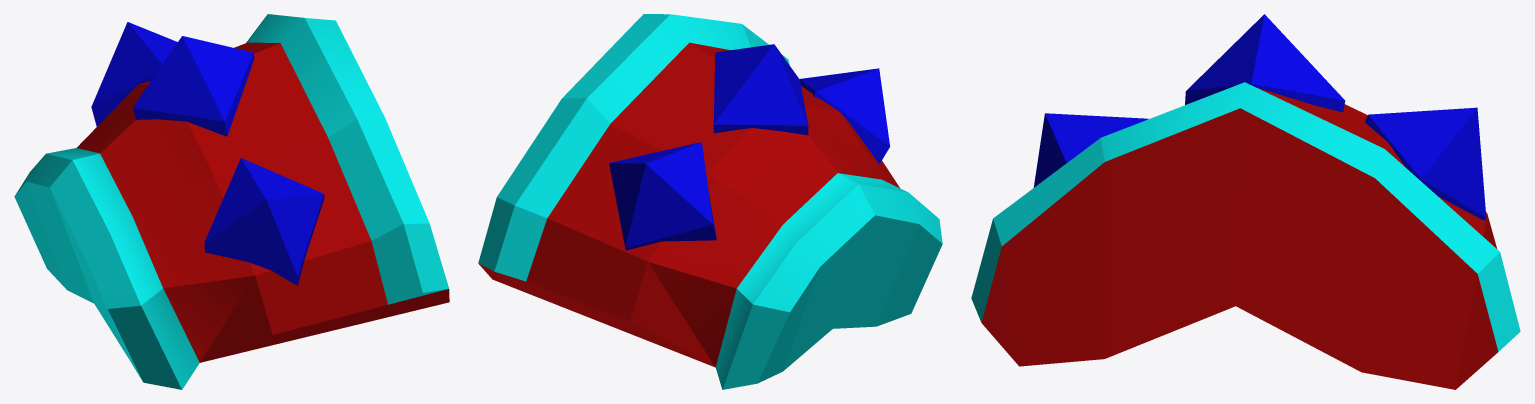
The model's file is Chr_ShoulderAttachRight_Static_05.fbx.
The picture shows the model from 3 angles, left to right: view 1: azimuth 30°, elevation 25°; view 2: azimuth 150°, elevation 25°; view 3: azimuth 270°, elevation 25°; orthographic projection. The views are drawn at different scales.
Parts seen in each view (by area): view 1: Chr_ShoulderAttachRight_05; view 2: Chr_ShoulderAttachRight_05; view 3: Chr_ShoulderAttachRight_05.
Boxes of the visible parts, <box> form: Chr_ShoulderAttachRight_05: <box>14,14,449,389</box>; Chr_ShoulderAttachRight_05: <box>478,14,942,389</box>; Chr_ShoulderAttachRight_05: <box>971,14,1520,389</box>.
Bounding box in the file's own units: 22.43 × 19.02 × 28.4.
